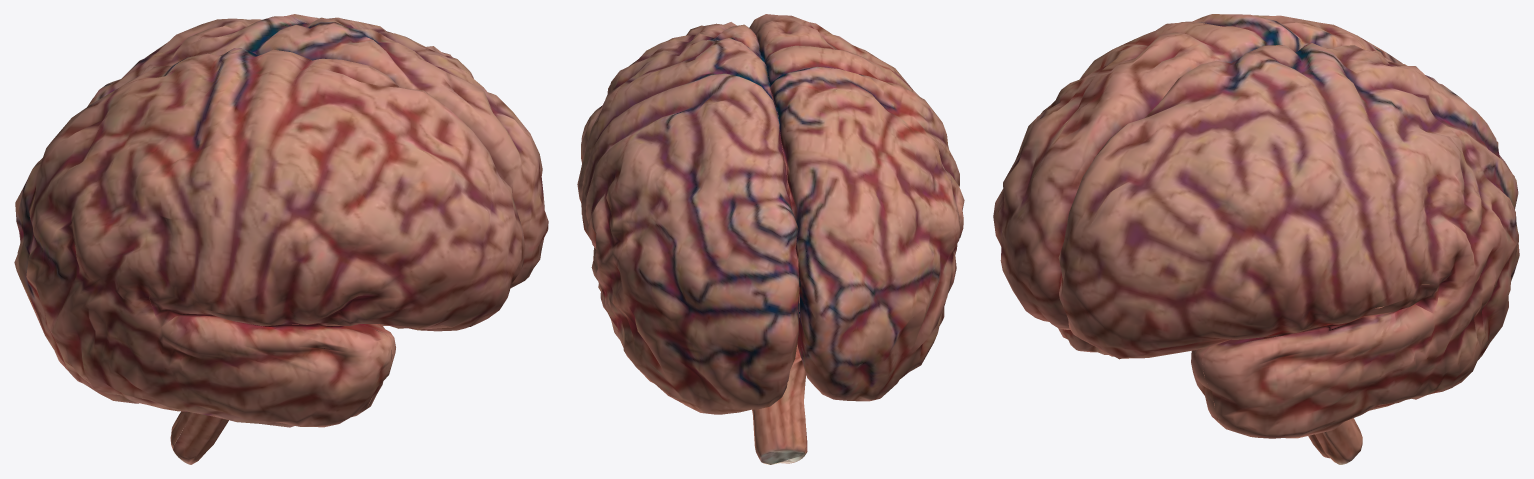
File: x_organos_human_brain__cerebrum.glb
The picture shows the model from 3 angles, left to right: view 1: azimuth 30°, elevation 25°; view 2: azimuth 150°, elevation 25°; view 3: azimuth 270°, elevation 25°; orthographic projection. The views are drawn at different scales.
Parts seen in each view (by area): view 1: defaultMaterial; view 2: defaultMaterial; view 3: defaultMaterial.
Boxes of the visible parts, x1,y1,x2,y2 form: defaultMaterial: (14,14,548,464); defaultMaterial: (577,14,964,464); defaultMaterial: (993,14,1519,464).
Bounding box in the file's own units: 0.162 × 0.1618 × 0.17.
Materials: 1 (1 with a texture image).
